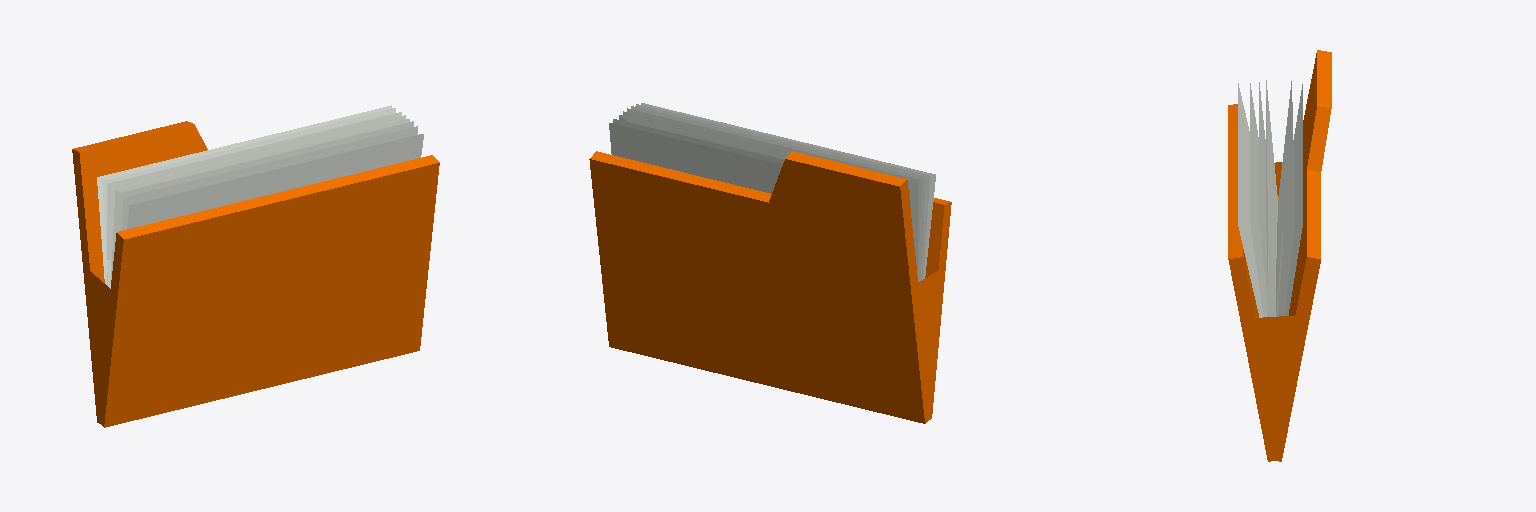
3 renders of one model, left to right at view 1: azimuth 30°, elevation 25°; view 2: azimuth 150°, elevation 25°; view 3: azimuth 270°, elevation 25°, orthographic.
Visible parts, largest first — view 1: Cube; view 2: Cube; view 3: Cube.
Part boxes in pixels (x1,y1,x2,y2): Cube: (72, 105, 439, 427); Cube: (589, 103, 951, 423); Cube: (1228, 50, 1331, 461).
Size of the model in its own units: 3.21 by 2.51 by 0.9097.
Materials: 1 (1 with a texture image).